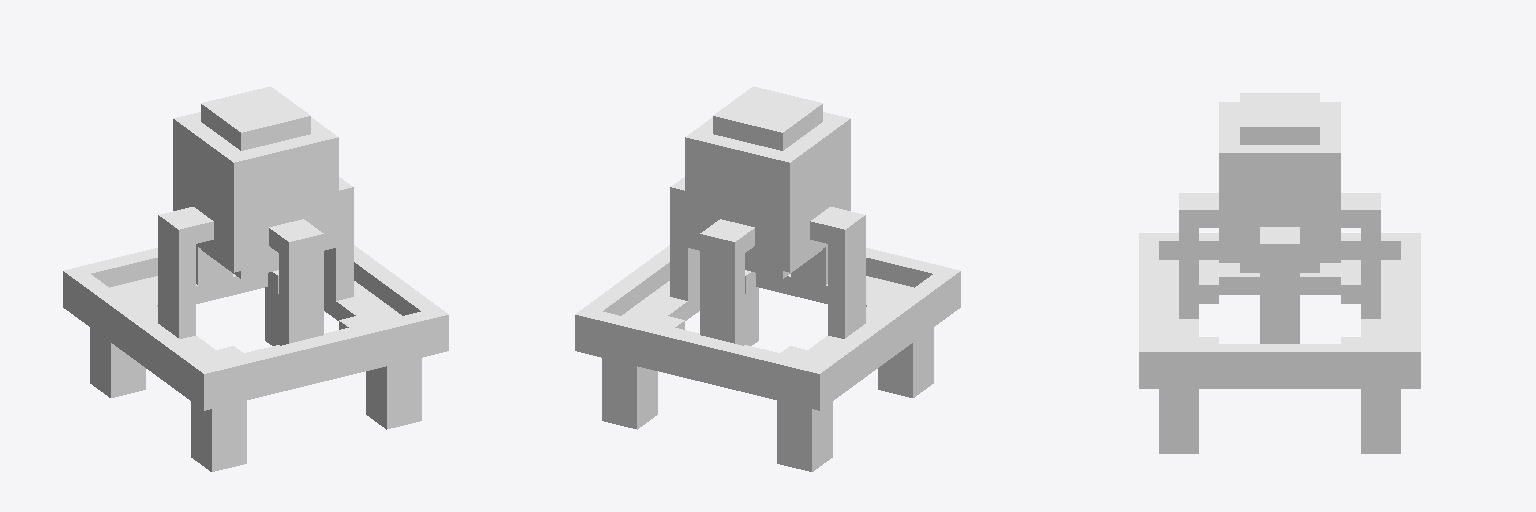
File: nowaterlazer.obj
3 renders of one model, left to right at view 1: azimuth 30°, elevation 25°; view 2: azimuth 150°, elevation 25°; view 3: azimuth 270°, elevation 25°, orthographic.
Visible parts, largest first — view 1: object 1; view 2: object 1; view 3: object 1.
Part boxes in pixels (left/top/right/bottom): object 1: left=63, top=86, right=448, bottom=471; object 1: left=575, top=86, right=960, bottom=471; object 1: left=1139, top=93, right=1420, bottom=453.
Bounding box in the file's own units: 1.4 × 1.6 × 1.4.